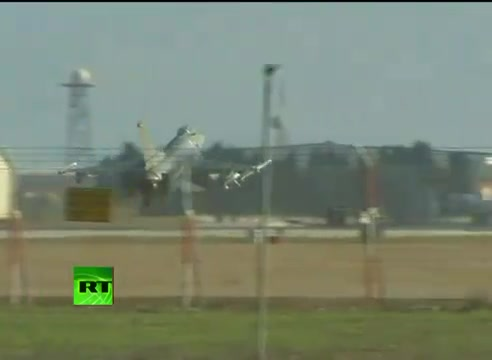aeroplane: (60, 120, 272, 203)
